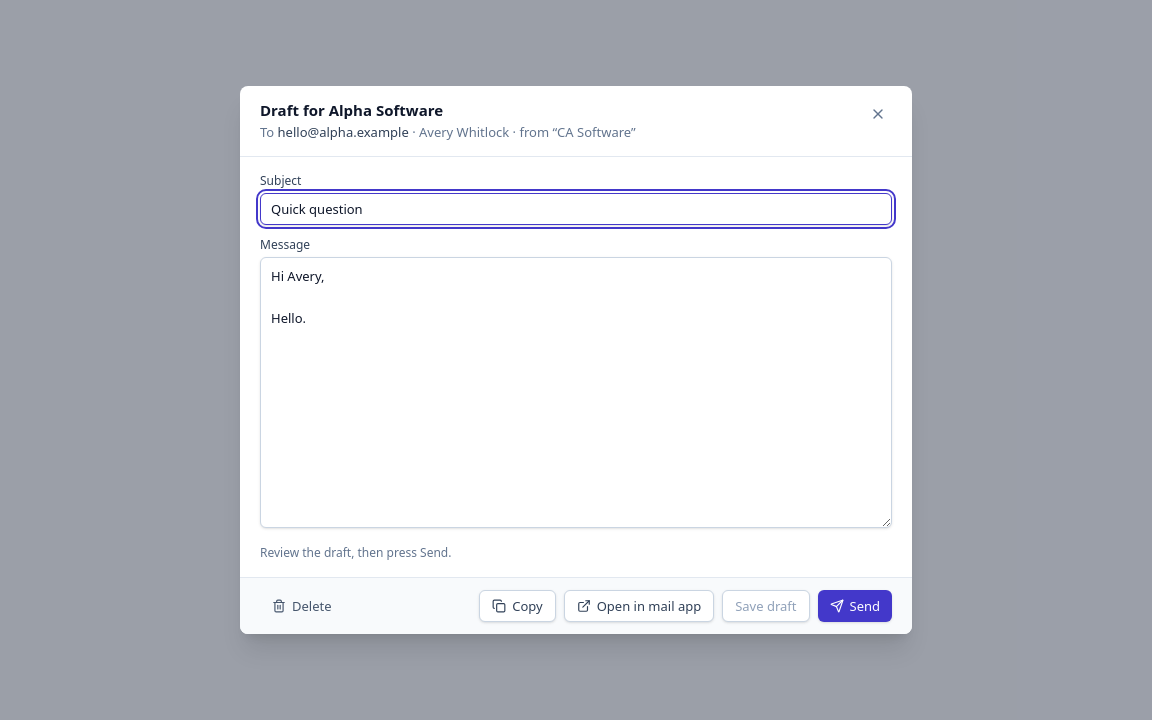
DraftEditorDialog › requires unsaved edits to be saved before sending
This screenshot has width=1152, height=720.
In the field labelled "Subject": (576, 209) [260,193,892,225], type "!"
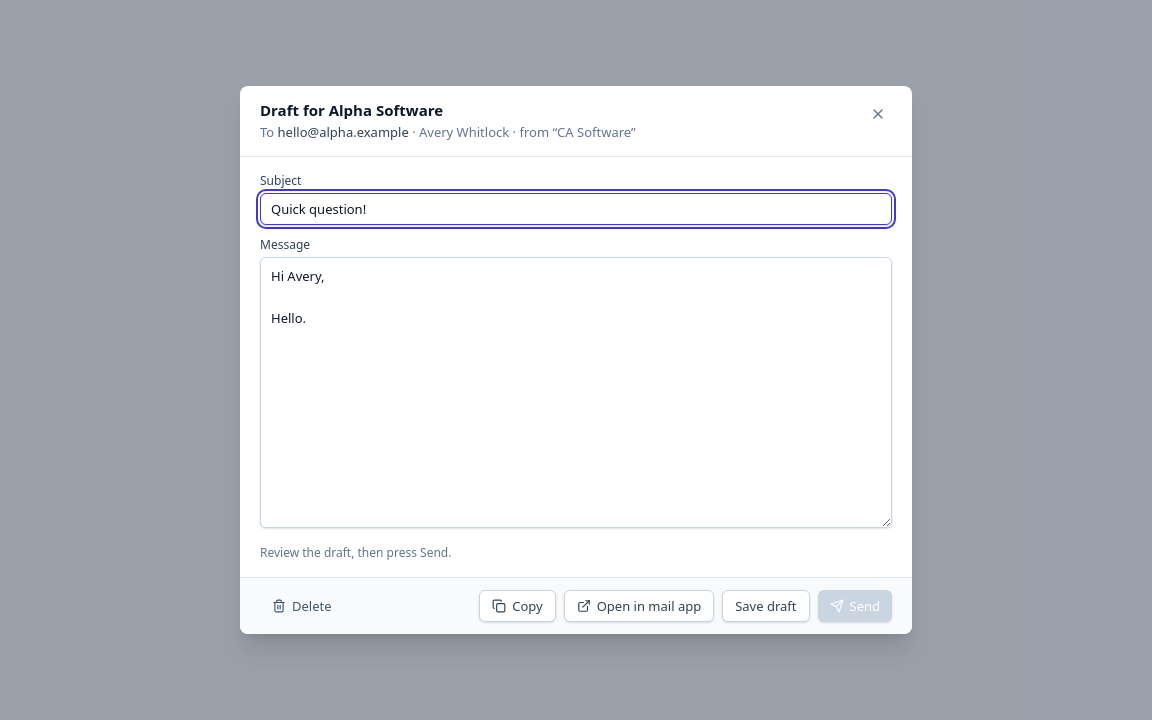
Expected: the button "Send" is disabled, [818,590,892,622]
